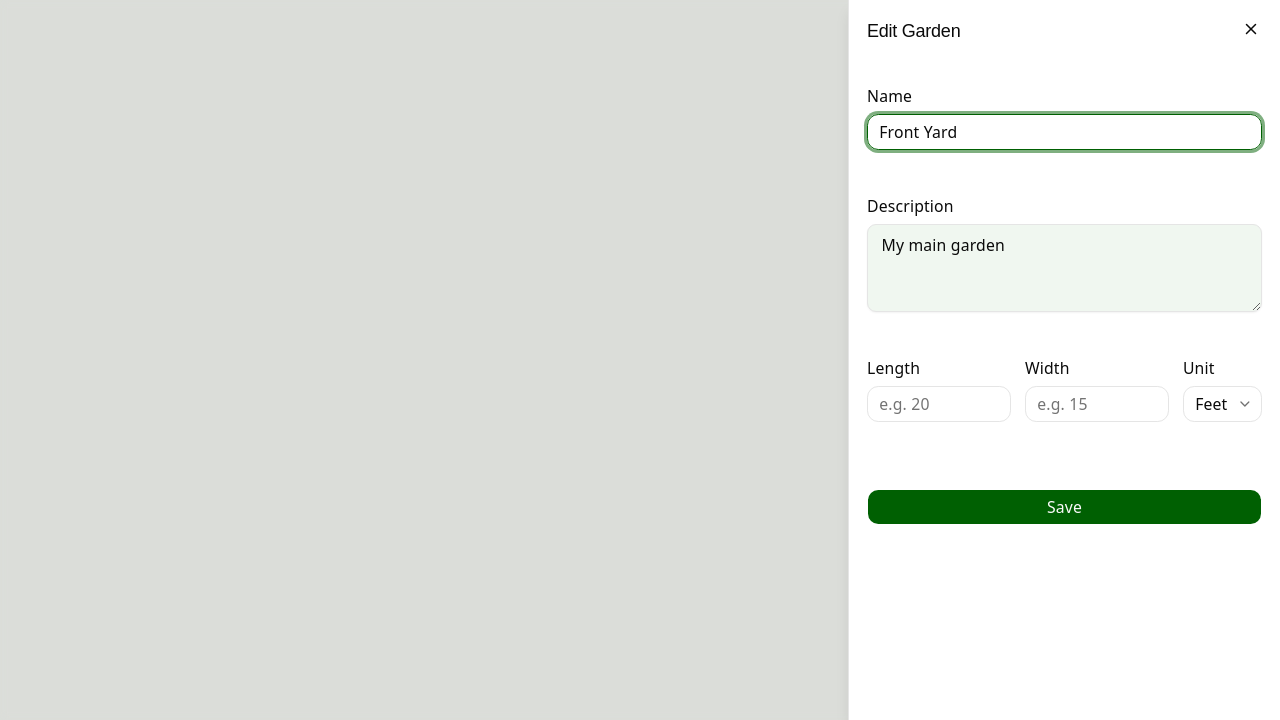
Test: GardenEditForm › applies server errors to the form on failure
Replace the text in the field labelled "Name" with "Back Yard": (1064,132) [867,114,1262,150]
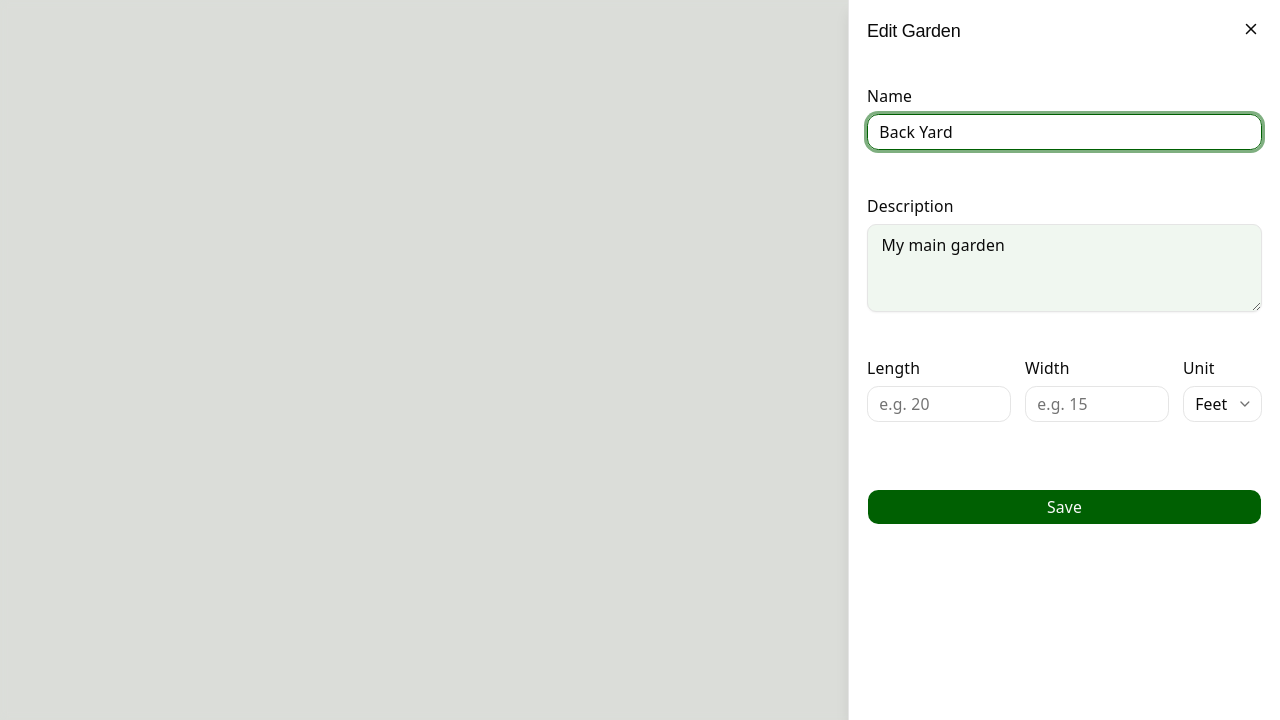
Click the button "Save": (1064,507) [867,489,1262,525]
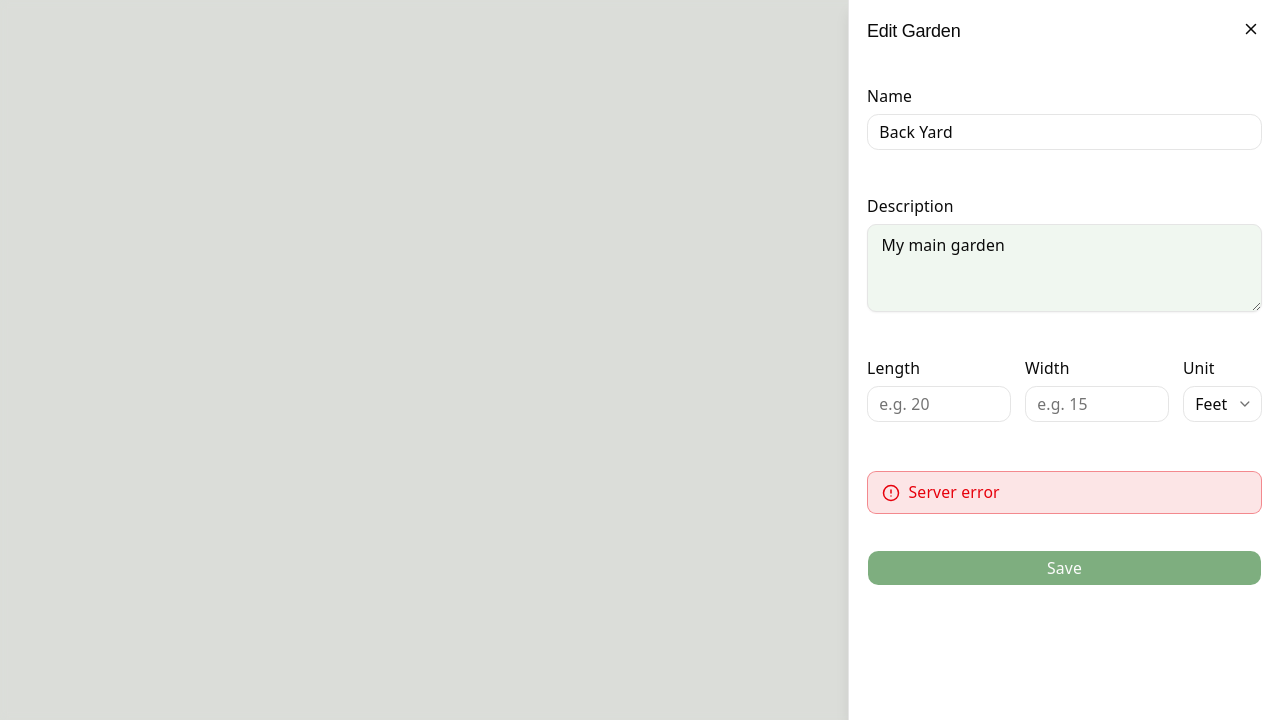
Now the text "Server error" is shown, box [908,481,1000,504]
